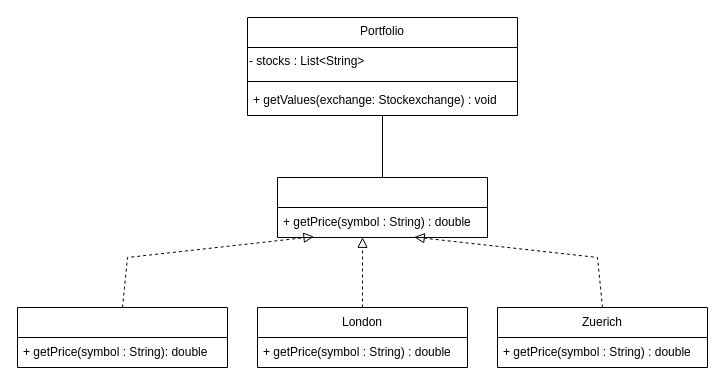
This 725x385 diagram has some shape labels left out. The shapes that lost their labels are listed below. From the top down, each one's box as (x1, y1, x2, y2) in pixels, then its label:
(276, 176, 488, 238): <<interface>> Stockexchange
(16, 306, 228, 368): NY
